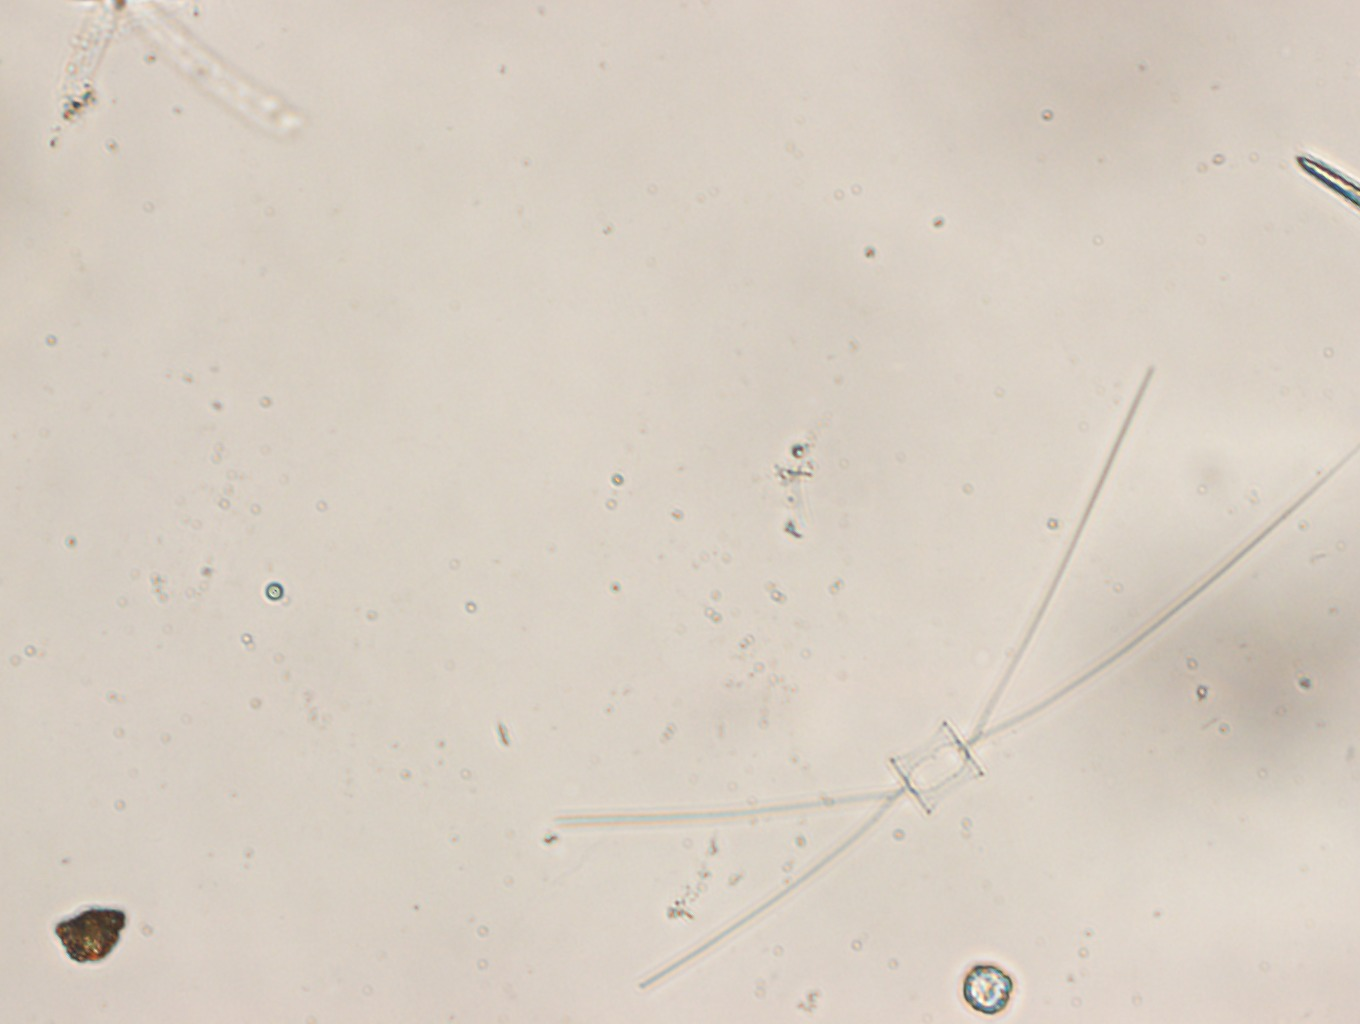chaetoceros: (553, 367, 1360, 990)
